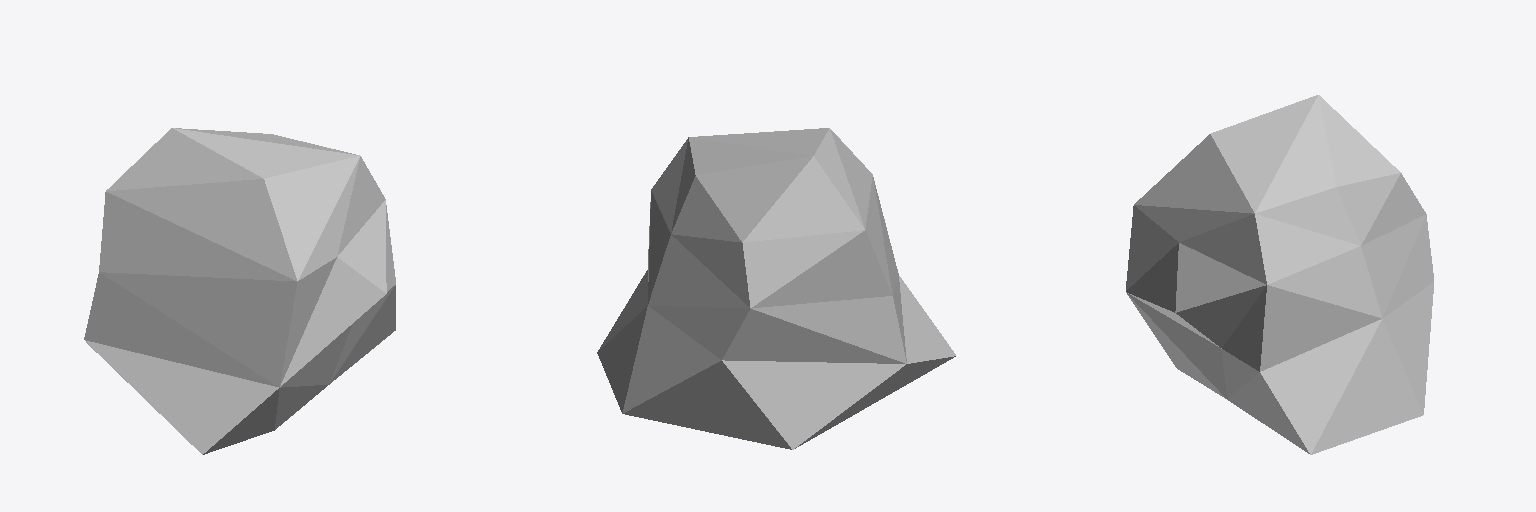
File: stone1.obj
3 renders of one model, left to right at view 1: azimuth 30°, elevation 25°; view 2: azimuth 150°, elevation 25°; view 3: azimuth 270°, elevation 25°, orthographic.
Visible parts, largest first — view 1: Icosphere.003; view 2: Icosphere.003; view 3: Icosphere.003.
Boxes of the visible parts, <box> form: Icosphere.003: <box>84,128,395,454</box>; Icosphere.003: <box>597,128,955,449</box>; Icosphere.003: <box>1126,95,1433,454</box>.
Size of the model in its own units: 1.49 by 1.18 by 1.28.